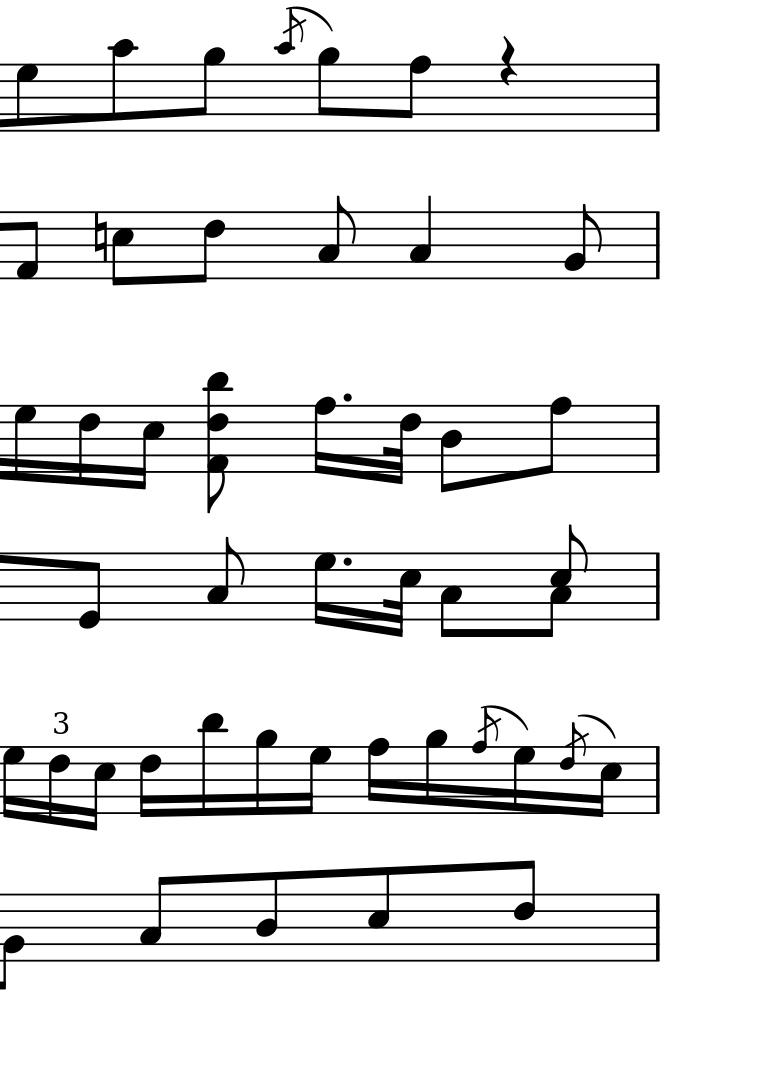16_11: (194, 713, 229, 818)
16_5: (132, 404, 164, 493), (86, 744, 115, 833), (593, 745, 623, 819)
16_6: (75, 403, 101, 487), (45, 745, 71, 826), (136, 745, 162, 821)
16_7: (312, 552, 338, 626), (13, 404, 37, 482), (511, 745, 537, 816), (2, 745, 24, 822)
16_8: (301, 745, 332, 817), (365, 736, 391, 816), (312, 396, 337, 477)
16_9: (253, 727, 279, 817), (422, 728, 448, 815)
3: (52, 710, 70, 736)
32_5: (386, 552, 423, 639)
32_6: (384, 403, 421, 485)
4_3: (408, 194, 433, 281)
8_0: (78, 552, 102, 632)
8_1: (14, 211, 39, 282)
8_10: (108, 38, 139, 133)
8_2: (563, 202, 604, 281)
8_3: (315, 194, 356, 282), (205, 537, 246, 622), (139, 877, 174, 963), (440, 551, 463, 638)
8_4: (253, 871, 278, 964), (437, 405, 462, 495)
8_5: (367, 865, 390, 963), (109, 210, 135, 288)
8_6: (190, 210, 228, 285), (512, 859, 536, 963)
8_7: (15, 63, 39, 134)
8_8: (537, 394, 572, 475), (400, 54, 432, 134)
8_9: (194, 47, 226, 134), (316, 47, 340, 133)
Acciaccature: (272, 10, 308, 128), (468, 708, 502, 813), (557, 722, 590, 815)
Natural: (92, 212, 109, 260)
Rests4: (499, 36, 518, 87)
Single_barline: (647, 63, 667, 131), (648, 895, 666, 961), (649, 212, 666, 278), (649, 406, 666, 472), (649, 554, 666, 619), (649, 748, 666, 812)
Slur: (290, 3, 330, 32), (487, 705, 528, 731), (577, 712, 618, 738)
dot: (339, 553, 354, 570), (339, 390, 354, 405)
